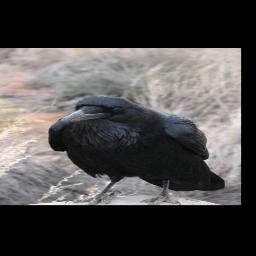Crow: (45, 95, 228, 205)
